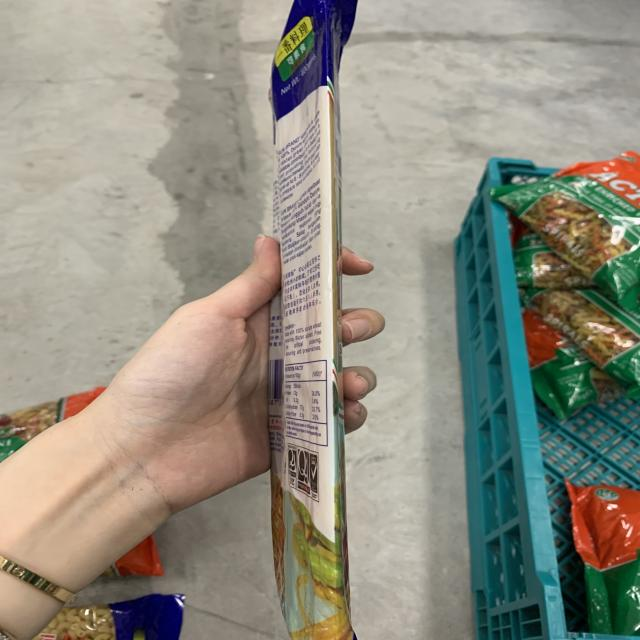object_name: (270, 12, 348, 636)
